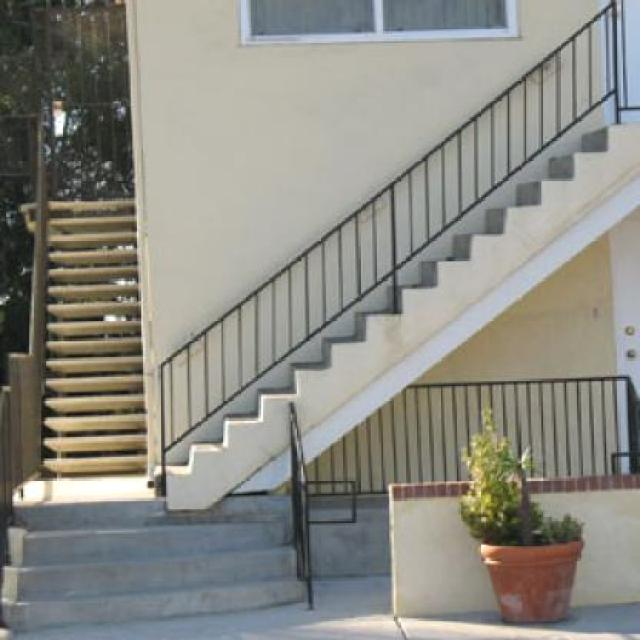stair: (135, 0, 638, 517), (5, 157, 157, 517)
